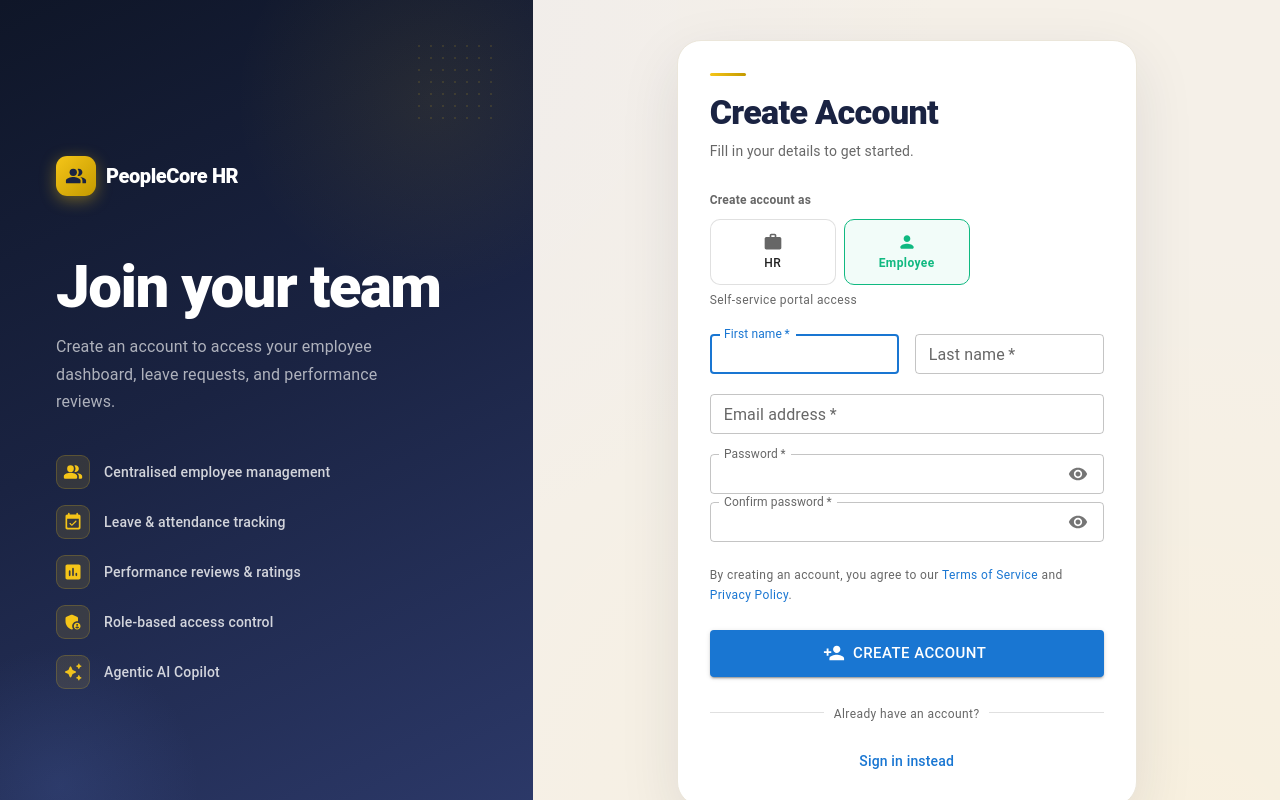
Scenario: RegisterPage › Validation › shows password mismatch error
Step 1. Type "Password123!" into the password field labelled "Password *" → (882, 474), box [710,454,1055,494]
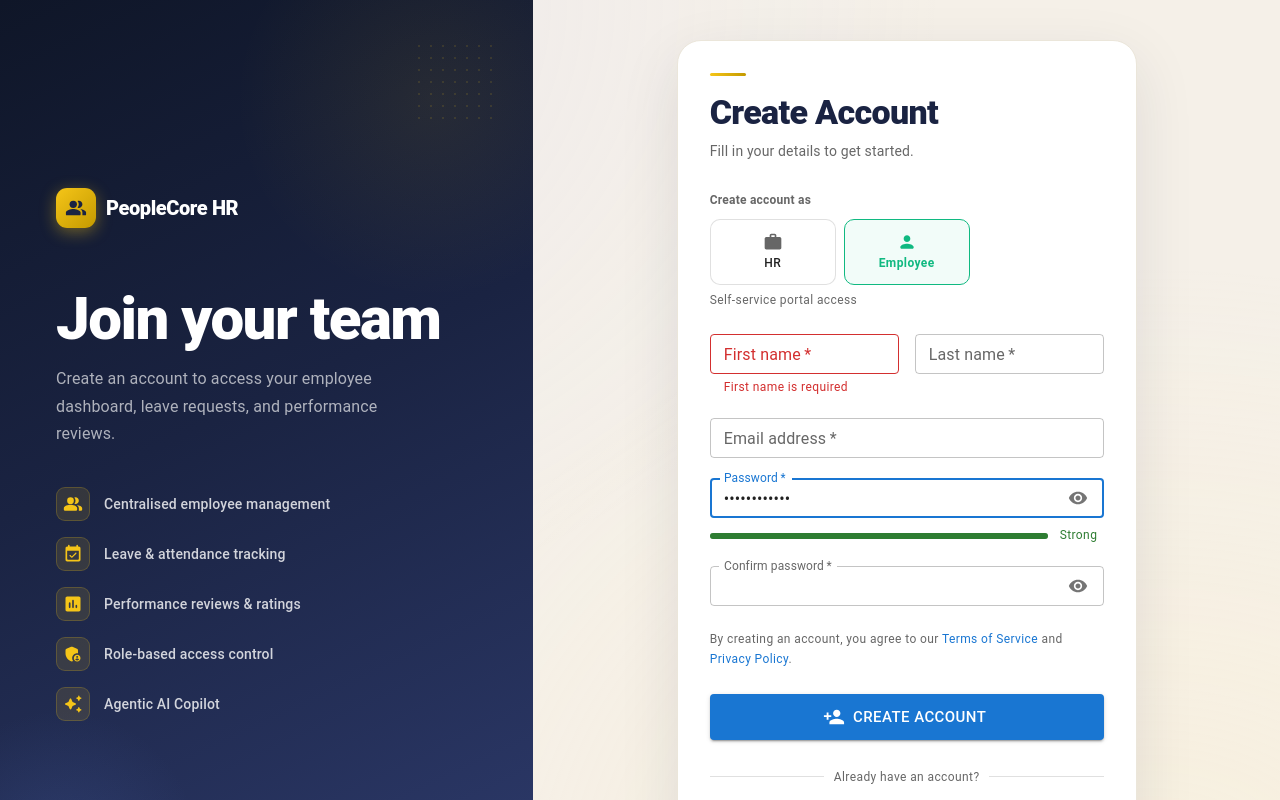
Step 2. Type "DifferentPassword!" into the password field labelled "Confirm password *" → (882, 586), box [710,566,1055,606]
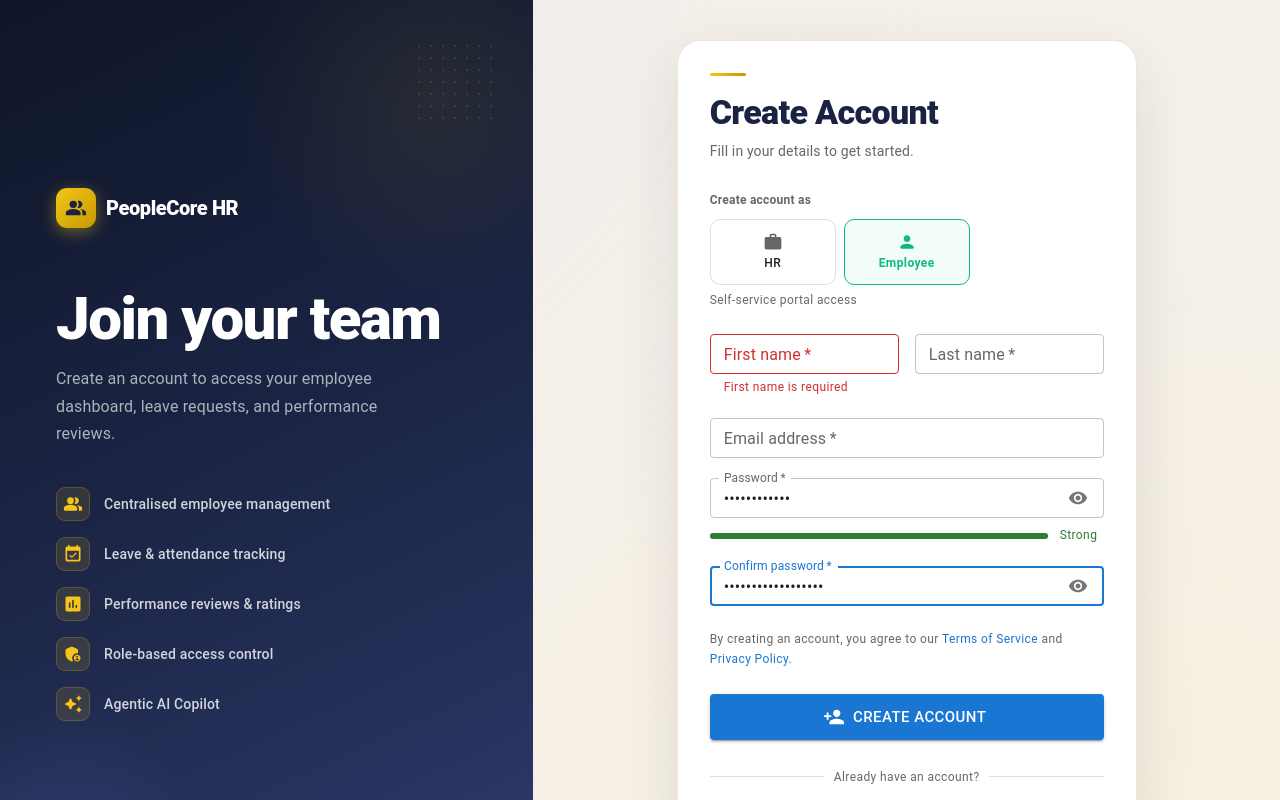
Step 3. Click the button "Create Account" → (907, 717), box [710,694,1104,740]
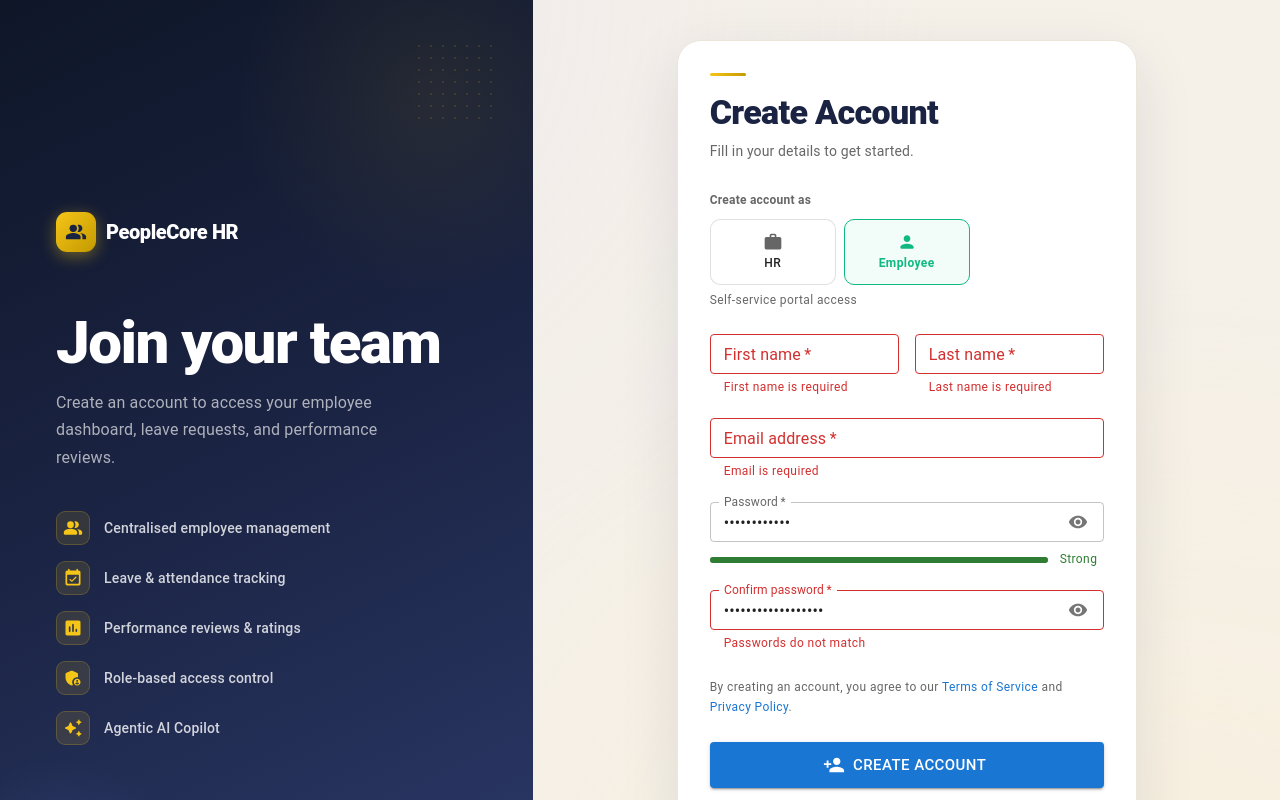
Expected: the text "Passwords do not match" is shown, [724,636,866,650]
